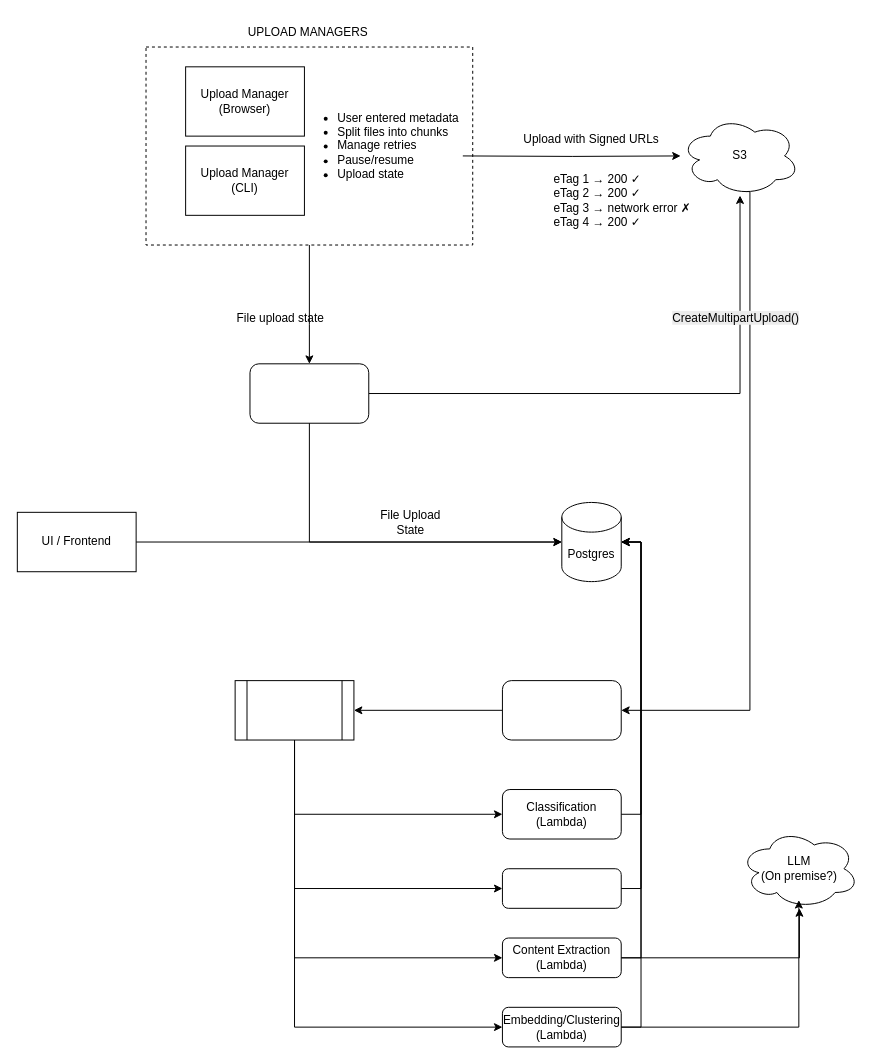
This 876x1064 diagram has some shape labels left out. Here are the shapes that lost their labels. From the top down, the centre of each, then its label:
(309,393): API
(294,710): Kafka/SQS (Fan Out)
(561,710): Outbox worker
(561,888): Metadata Extraction (Lambda)
